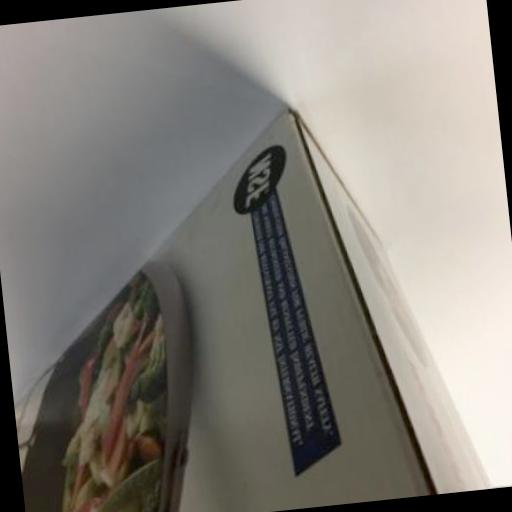cardboard: (0, 91, 490, 512)
